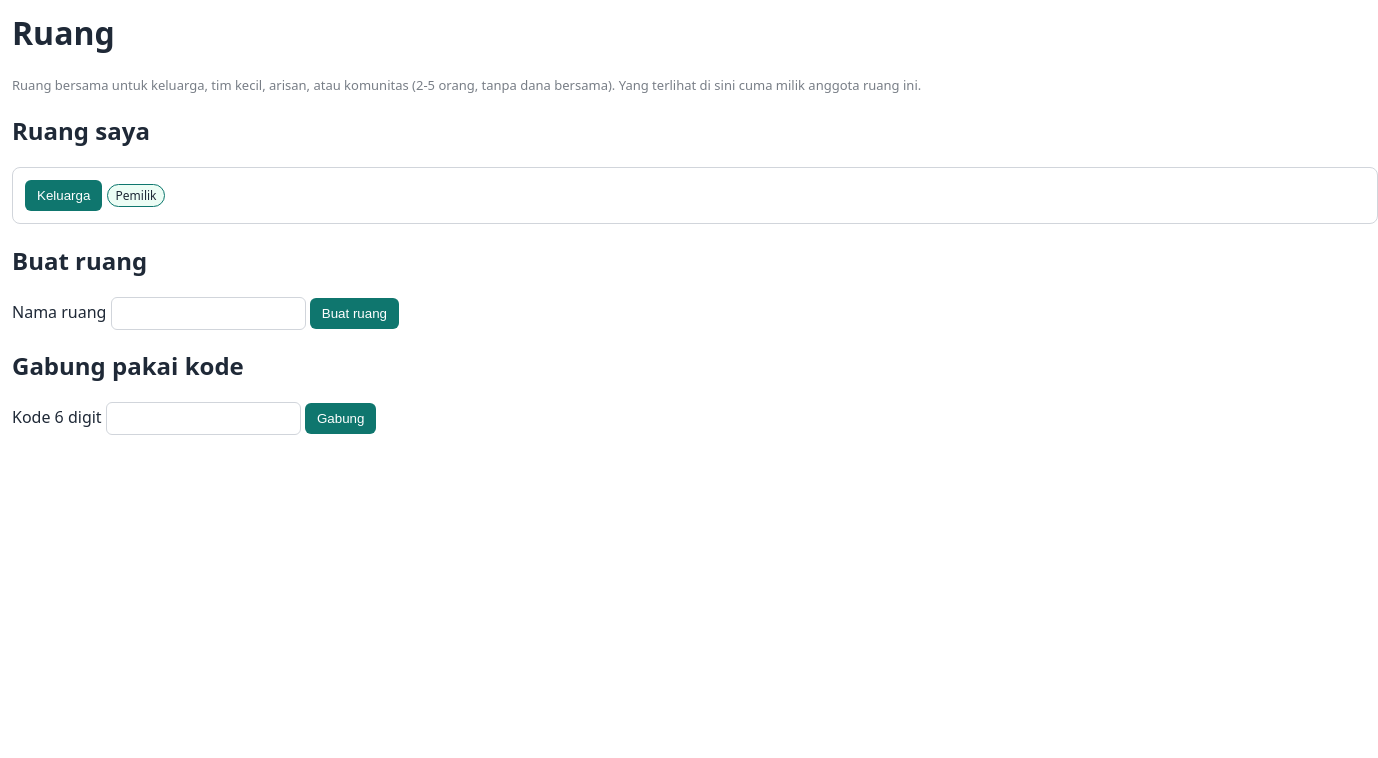
RoomsScreen (P-05) › opens a room and shows members, memory, tasks, and jobs
Click the button "Keluarga" at (64, 195), box [25,180,102,211]
(page scrolled)
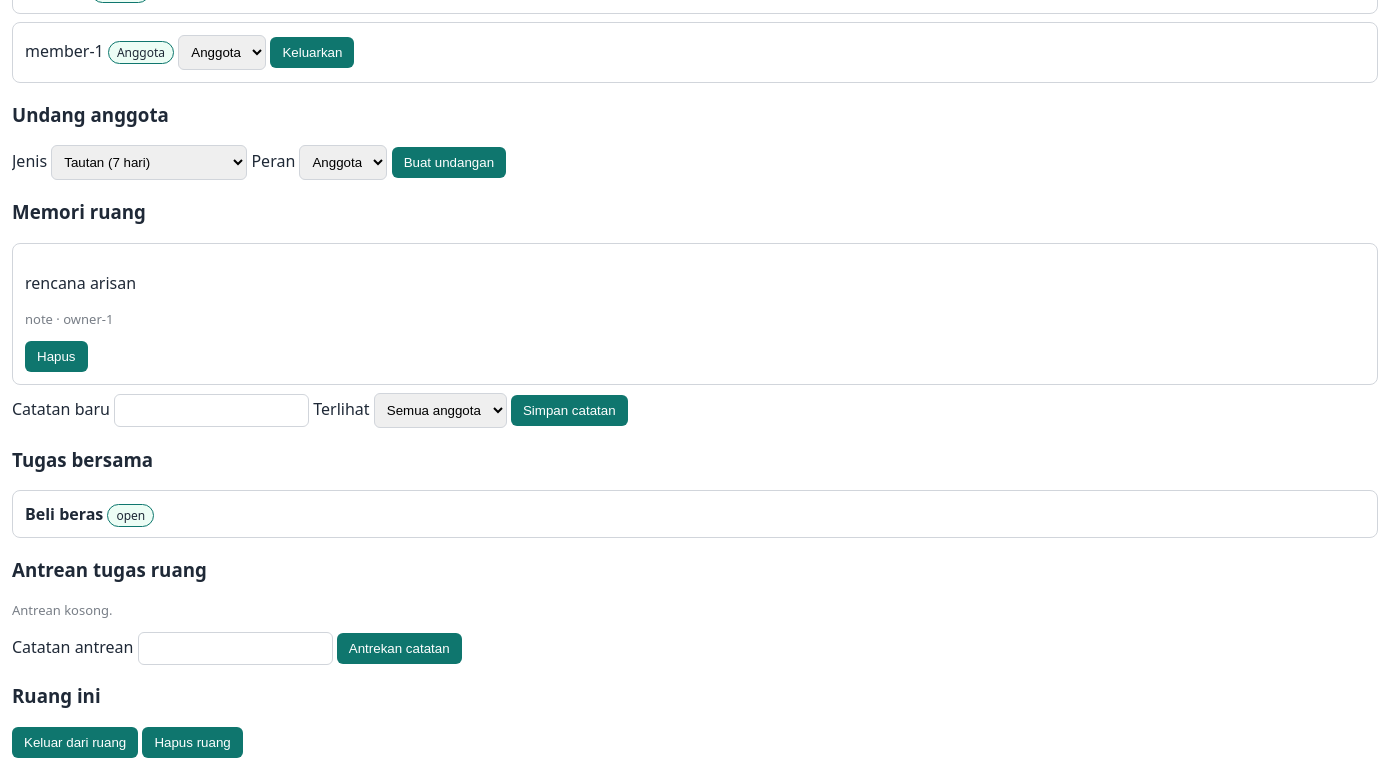
Expected: the text "rencana arisan" is shown, [25,272,136,294]
Expected: the text "Beli beras" is shown, [25,503,103,525]
Expected: the text "member-1" is shown, [25,40,104,62]
